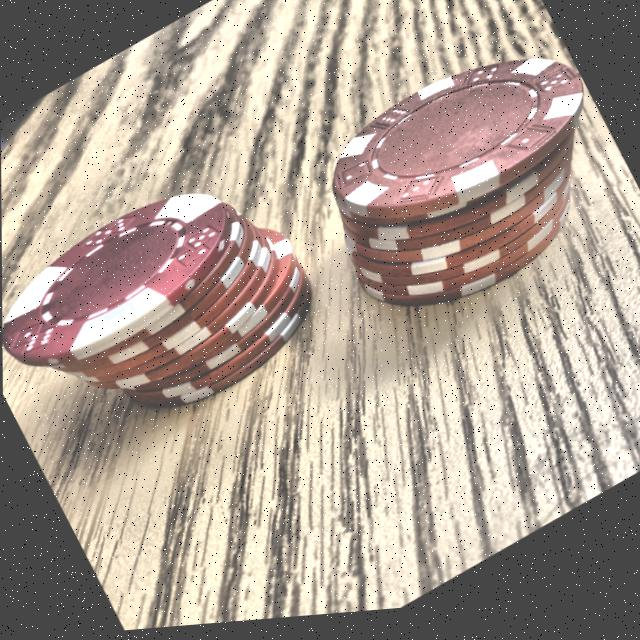Chip: (276, 7, 638, 371), (1, 128, 347, 490)
